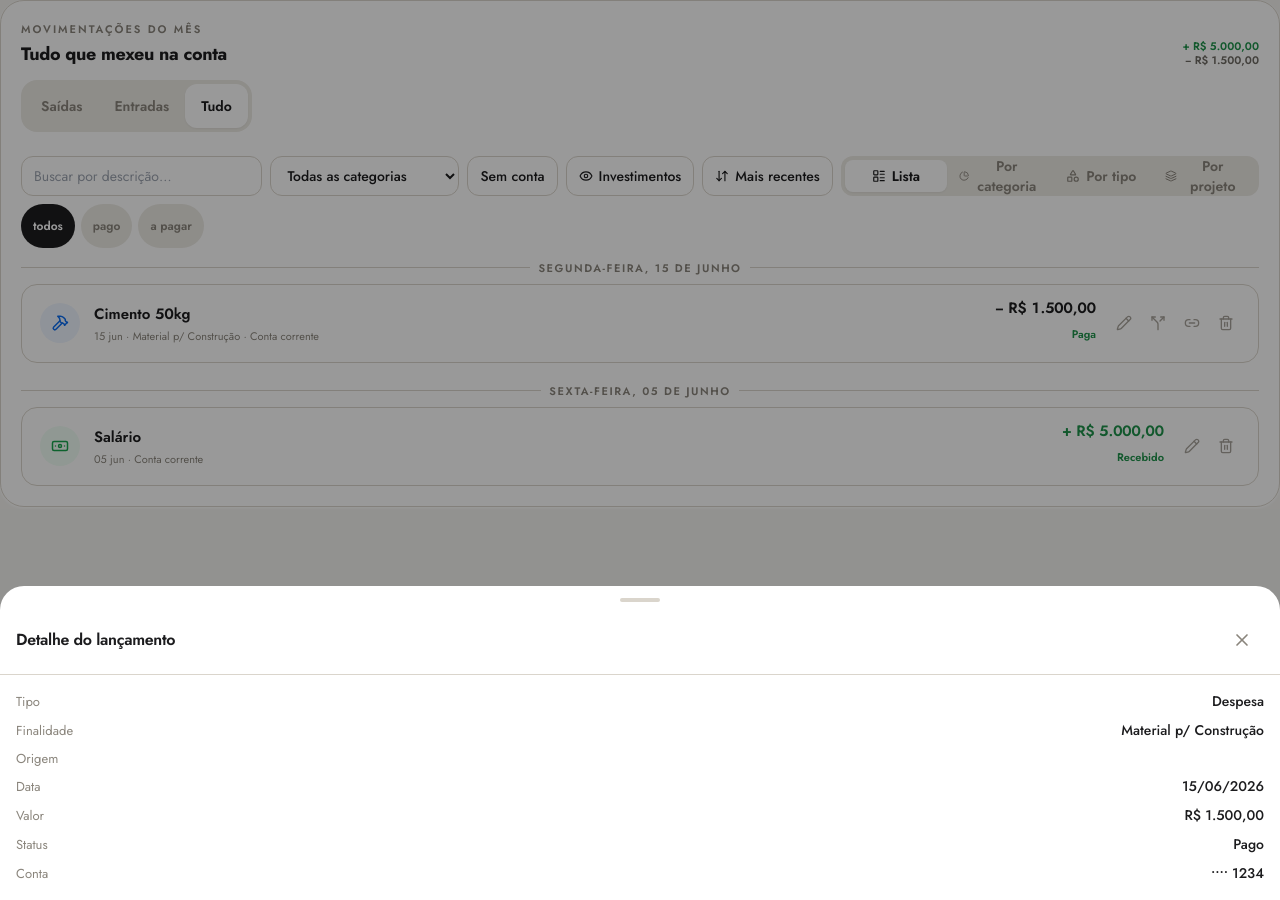
Test case: Deep-link: ?item=<id> › does not reopen detail after manual close even if initialItemId persists
This screenshot has width=1280, height=900.
Close manually
Click the button named "Fechar": (1242, 640) x1=1220 y1=618 x2=1264 y2=662
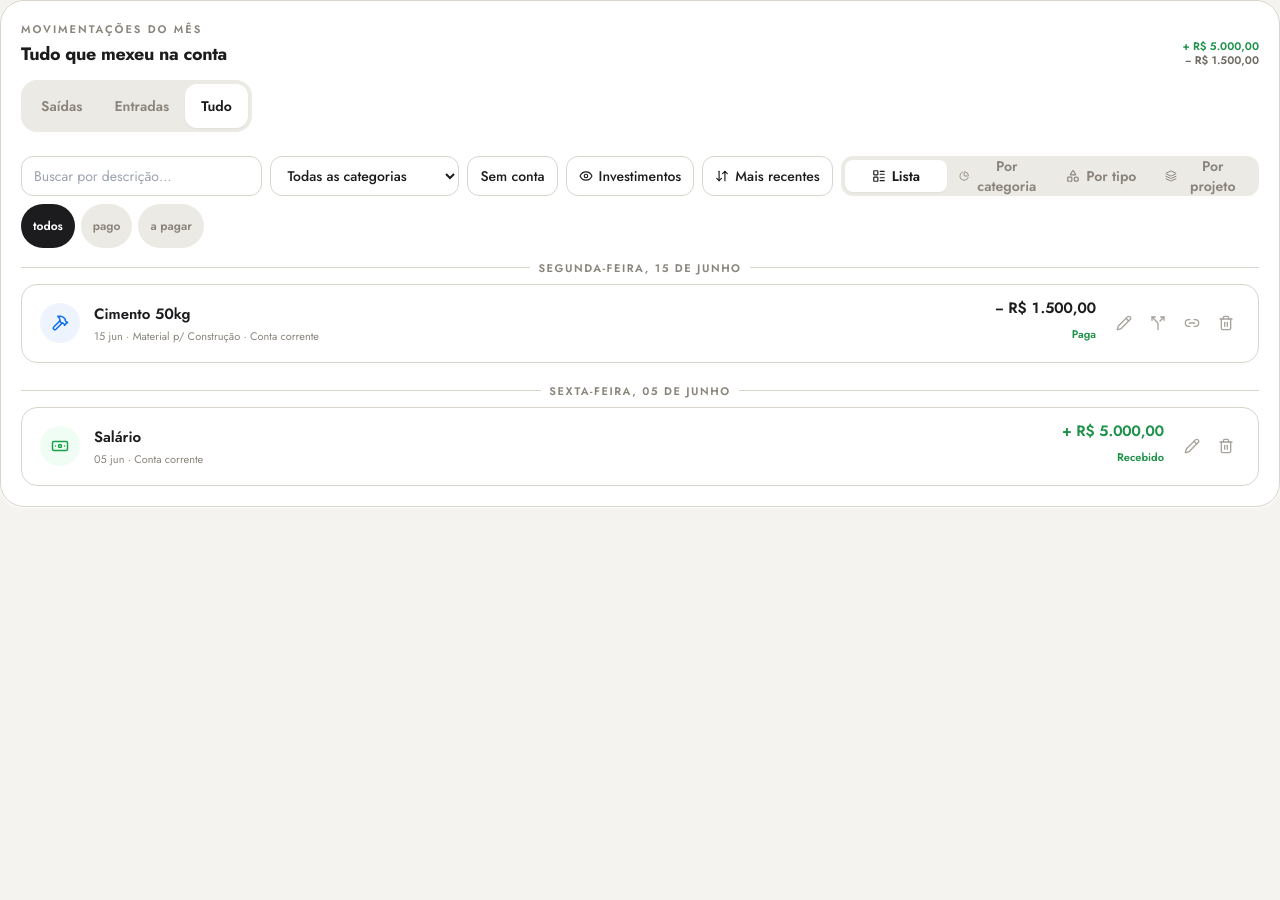
Result: the element with test id "financial-detail-sheet" is gone
